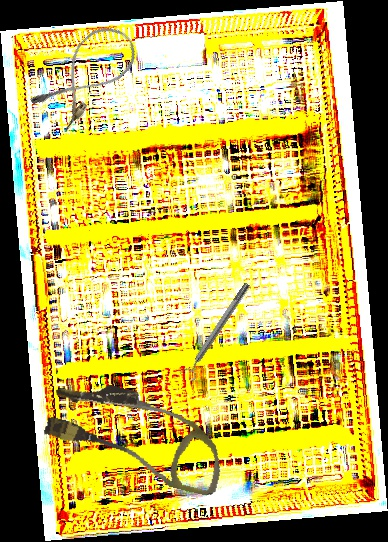Cannula: (38, 372, 235, 498), (27, 16, 145, 135)
Fixation Ring: (178, 279, 256, 383)
